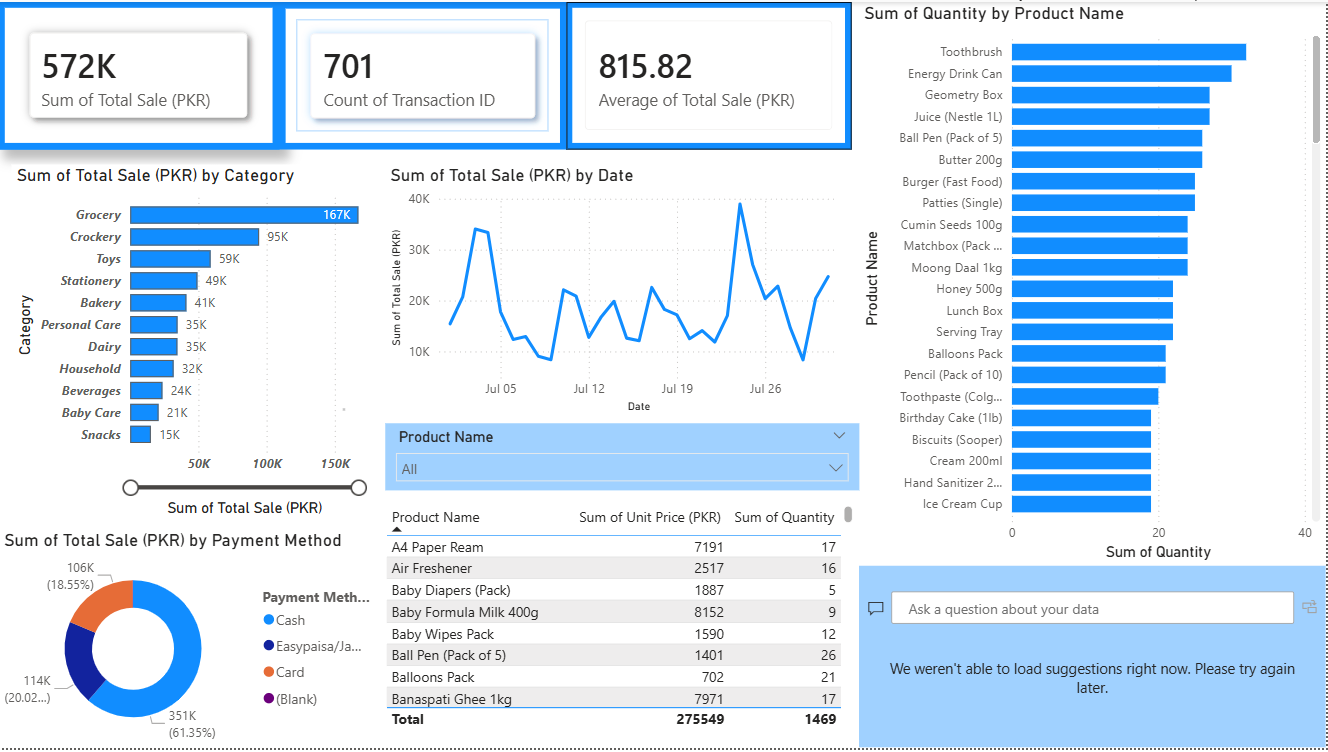

Layout of this report page (visuals, bound fields, positions):
{"tool":"powerbi","page":{"name":"Page 1","canvas":[1280,720],"ordinal":0},"visuals":[{"type":"cardVisual","fields":{"Data":["Sum(SalesData (2).Total Sale (PKR))"]},"box":[0,0,270,142.5],"z":0},{"type":"clusteredBarChart","fields":{"Category":["SalesData (2).Category"],"Y":["Sum(SalesData (2).Total Sale (PKR))"]},"box":[12.5,156.2,355,343.8],"z":1000},{"type":"lineChart","fields":{"Y":["Sum(SalesData (2).Total Sale (PKR))"],"Category":["SalesData (2).Date"]},"box":[372.5,156.2,448.8,245],"z":2000},{"type":"clusteredBarChart","fields":{"Category":["SalesData (2).Product Name"],"Y":["Sum(SalesData (2).Quantity)"]},"box":[829.6,0,450.4,544.5],"z":3000},{"type":"donutChart","fields":{"Category":["SalesData (2).Payment Method"],"Y":["Sum(SalesData (2).Total Sale (PKR))"]},"box":[0,508.6,367.1,211.4],"z":4000},{"type":"slicer","fields":{"Values":["SalesData (2).Product Name"]},"box":[372.5,406.2,457.5,65],"z":5000},{"type":"qnaVisual","box":[829.6,544.5,450.4,175.3],"z":6000},{"type":"tableEx","fields":{"Values":["SalesData (2).Product Name","Sum(SalesData (2).Unit Price (PKR))","Sum(SalesData (2).Quantity)"]},"box":[367.5,481.2,461.2,225],"z":7000},{"type":"textbox","box":[326.7,387.8,12.2,12.2],"z":10000},{"type":"cardVisual","fields":{"Data":["CountNonNull(SalesData (2).Transaction ID)"]},"box":[270,0,277.5,142.5],"z":10001},{"type":"cardVisual","fields":{"Data":["Avg(SalesData (2).Total Sale (PKR))"]},"box":[547.5,0,275,142.5],"z":10002}]}

Visuals, with their boxes in screenshot pixels (x1, y1, x2, y2), scaled from the page's 1280x720 canvas onto the 1328x752 screenshot:
cardVisual - Sum(SalesData (2).Total Sale (PKR)): x1=0, y1=0, x2=280, y2=149
clusteredBarChart - SalesData (2).Category x Sum(SalesData (2).Total Sale (PKR)): x1=13, y1=163, x2=381, y2=522
lineChart - Sum(SalesData (2).Total Sale (PKR)) x SalesData (2).Date: x1=386, y1=163, x2=852, y2=419
clusteredBarChart - SalesData (2).Product Name x Sum(SalesData (2).Quantity): x1=861, y1=0, x2=1327, y2=569
donutChart - SalesData (2).Payment Method x Sum(SalesData (2).Total Sale (PKR)): x1=0, y1=531, x2=381, y2=751
slicer - SalesData (2).Product Name: x1=386, y1=424, x2=861, y2=492
qnaVisual: x1=861, y1=569, x2=1327, y2=751
tableEx - SalesData (2).Product Name x Sum(SalesData (2).Unit Price (PKR)): x1=381, y1=503, x2=860, y2=738
textbox: x1=339, y1=405, x2=352, y2=418
cardVisual - CountNonNull(SalesData (2).Transaction ID): x1=280, y1=0, x2=568, y2=149
cardVisual - Avg(SalesData (2).Total Sale (PKR)): x1=568, y1=0, x2=853, y2=149
